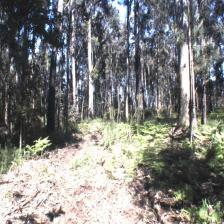trunktrack_idkeyframe: (46, 73, 56, 130)
